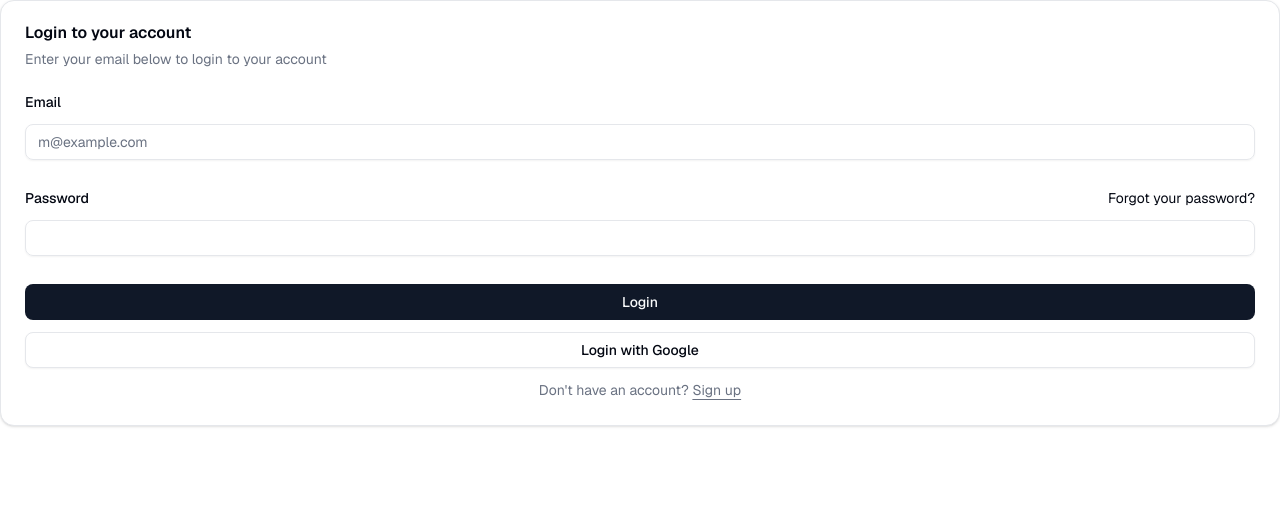
Test: LoginForm Component › should show error message on network error
The width and height of the screenshot is (1280, 508).
Type "test@example.com" into the field labelled "Email" at (640, 142), box [25,124,1255,160]
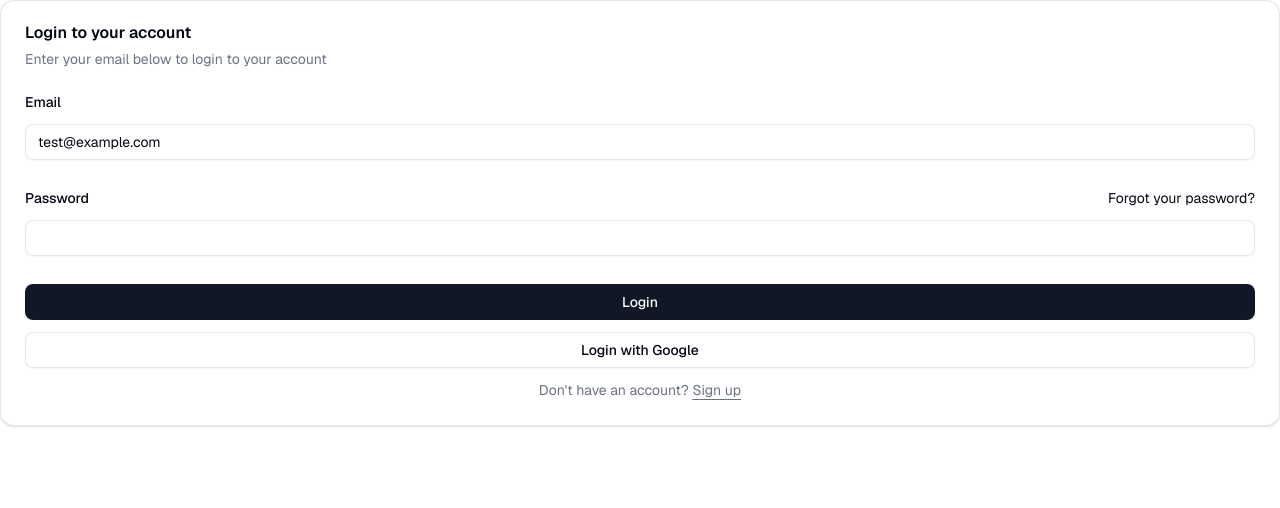
Type "password123" into the password field labelled "Password" at (640, 238), box [25,220,1255,256]
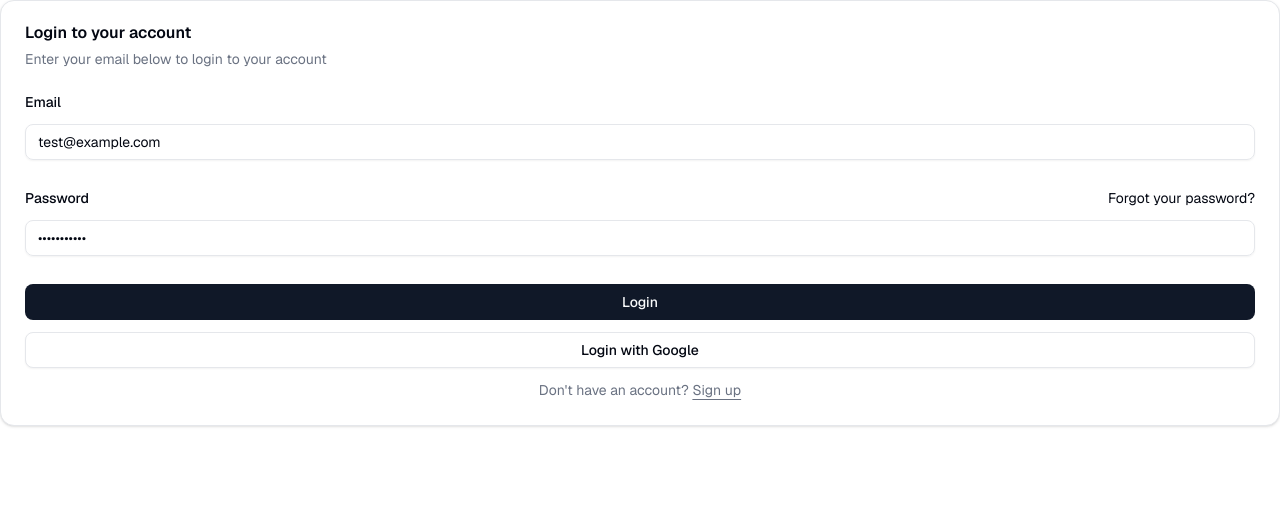
Click the button "Login" at (640, 302), box [25,284,1255,320]
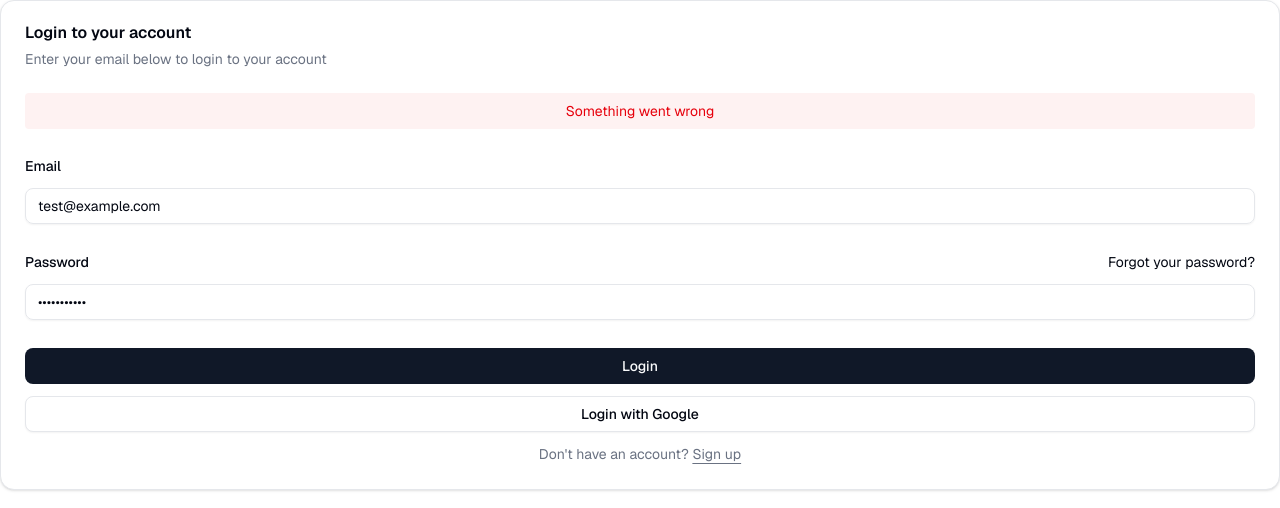
Now the text "Something went wrong" is shown, box [25,93,1255,129]
